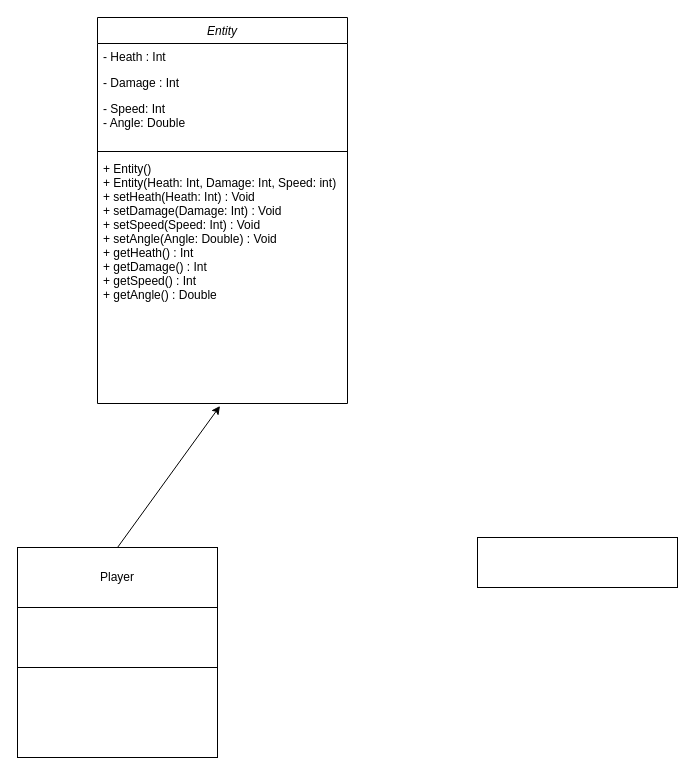
Some shapes in this 695 by 775 pixel diagram are drawn without their labels. The shapes that lost their labels are listed below. From the top down, each one's centre as x and y in pixels, then its label:
At pixel 117 637: "+ Player : Entity + Box : JLabel".
At pixel 117 712: "+Player()".
